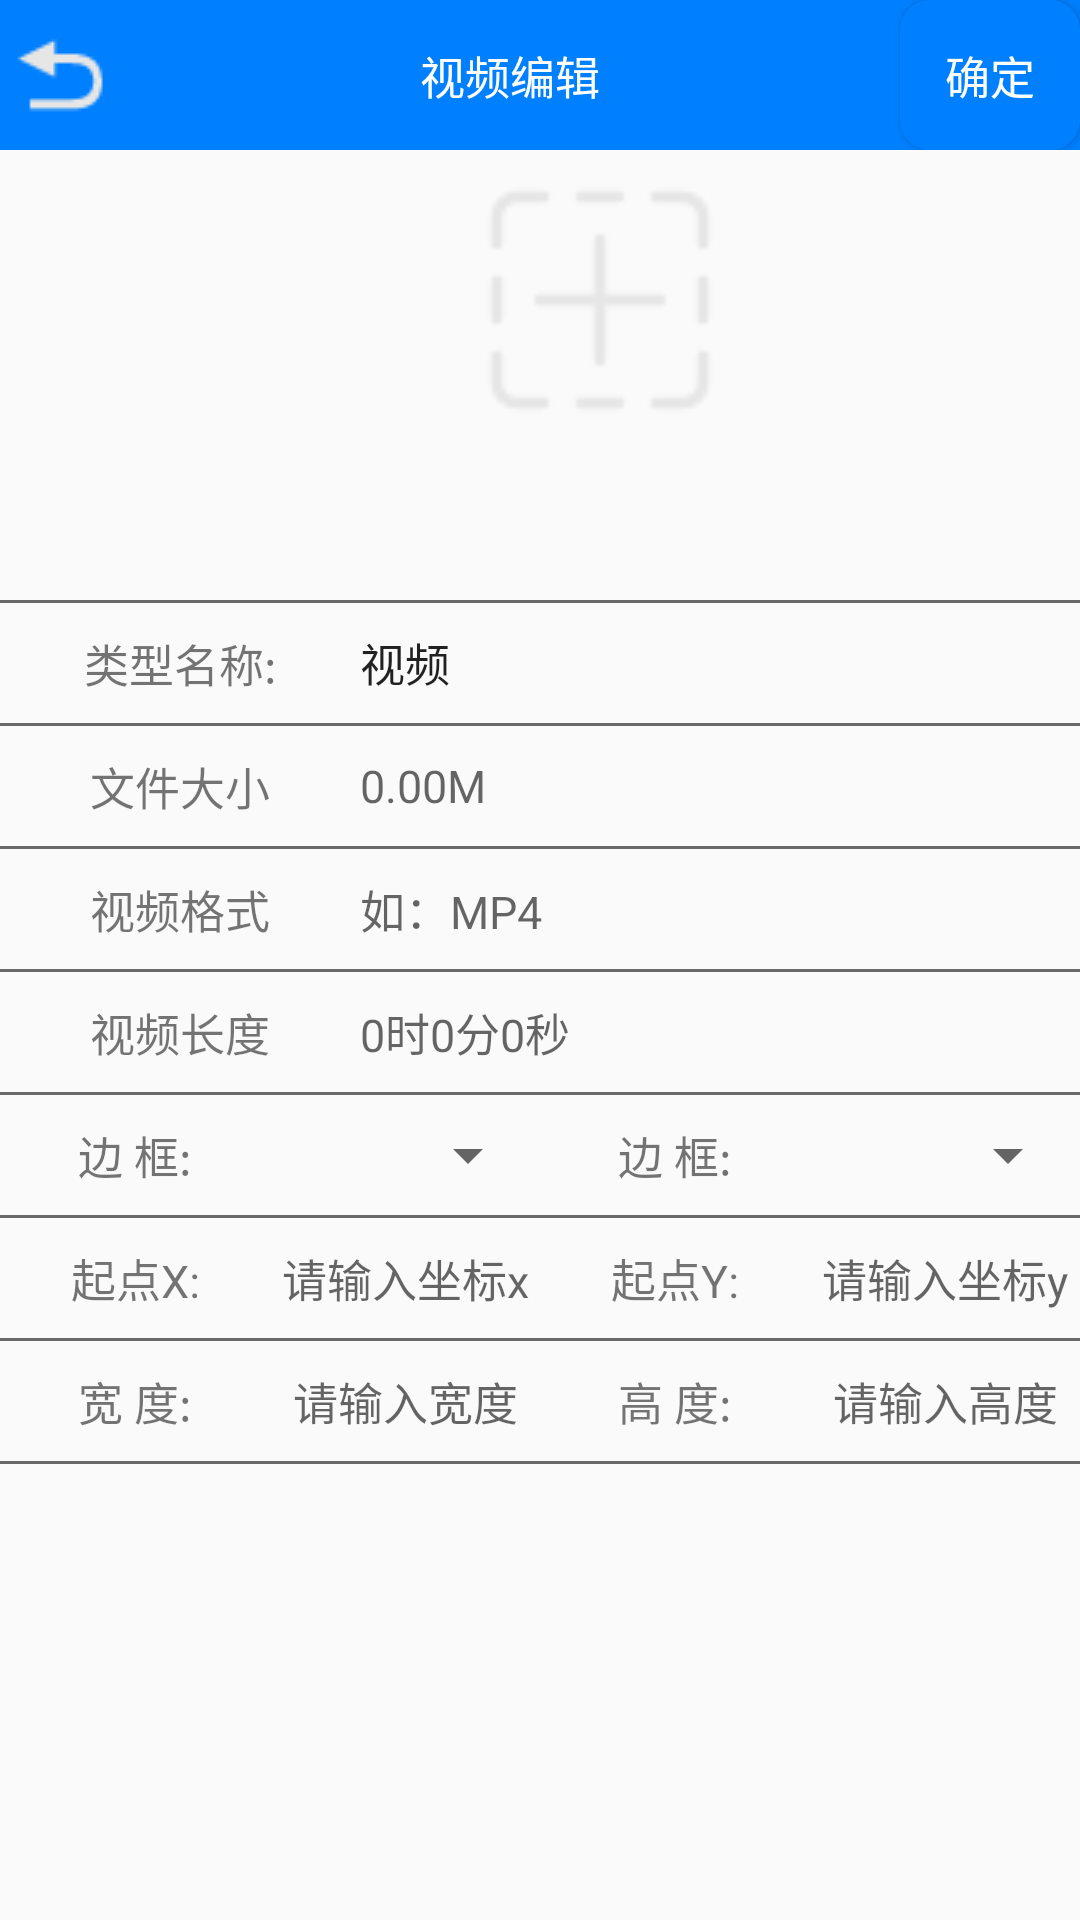

Named icons in this screenshot (1080 x 1920) and their centers, [x,y]:
return: [60,75]
